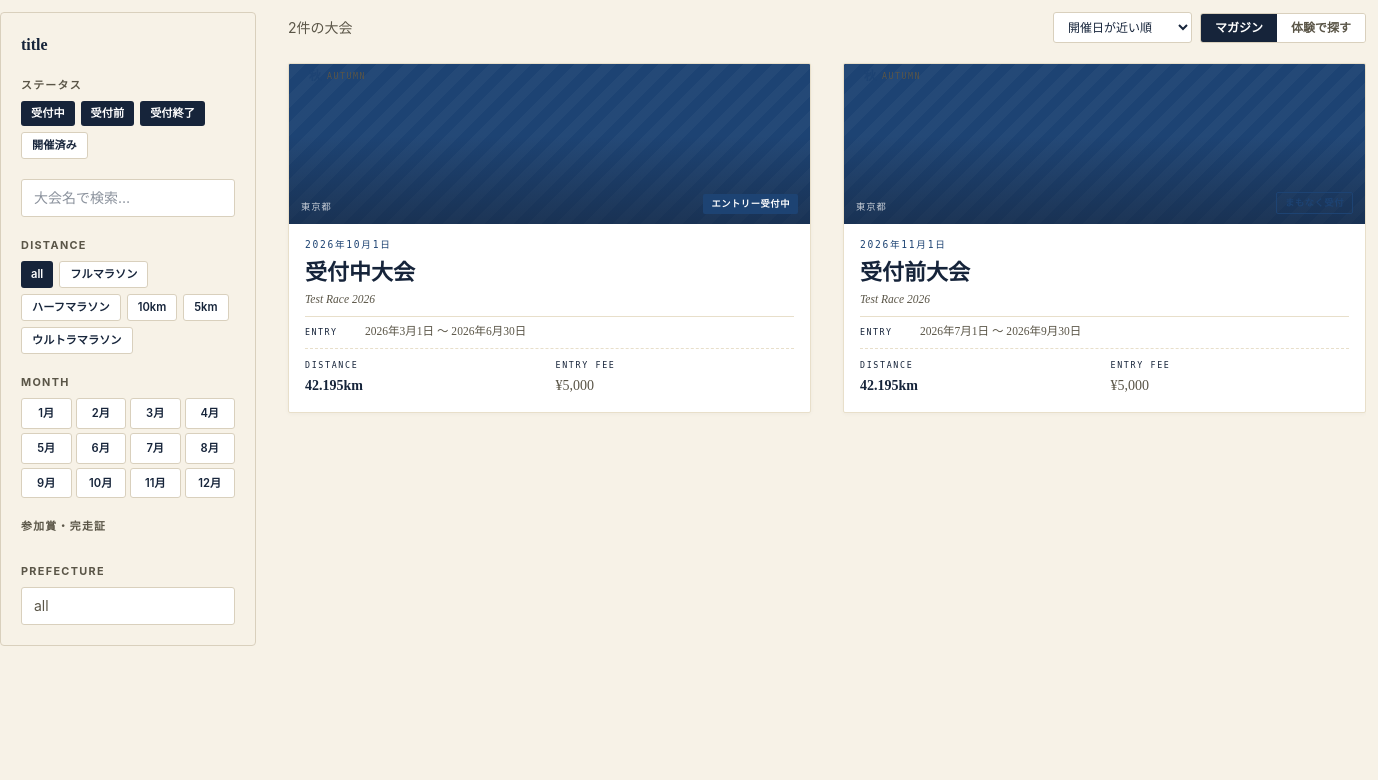
Test: RaceList - フィルタ操作 › テキスト検索で表示件数が絞り込まれる
Type "受付中" into the field with placeholder "大会名で検索…". click: (128, 198)
box: [21,179,235,217]
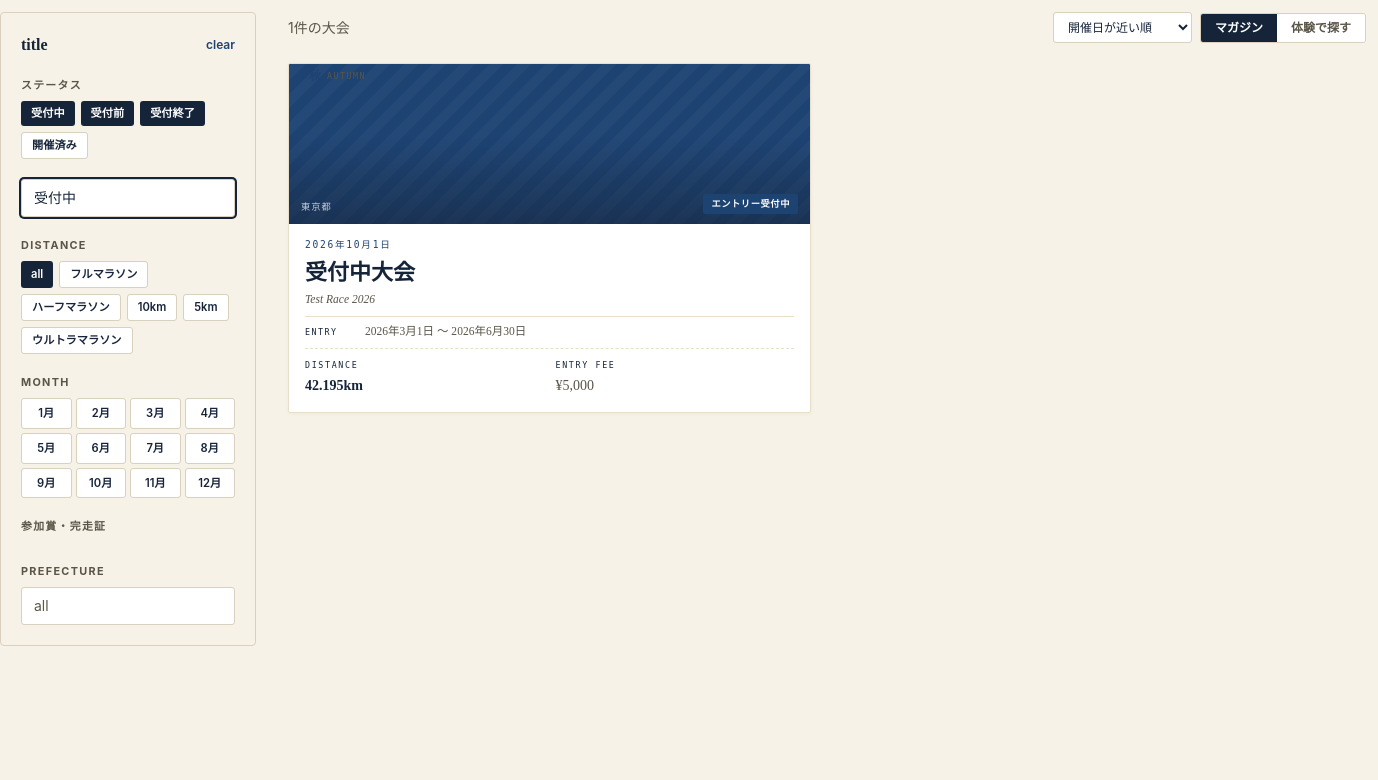
Expected: the heading "受付中大会" is shown, [305,260,415,285]
Expected: the text "1件の大会" is shown, [288,18,350,38]
Expected: the link "受付前大会" is gone
